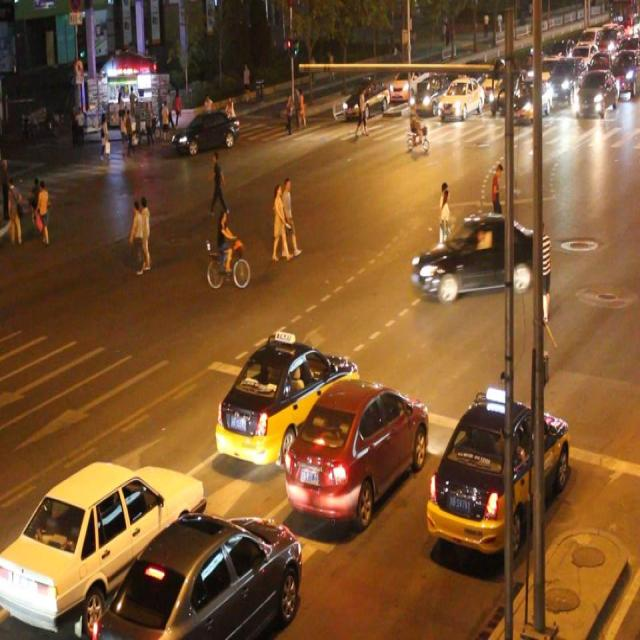car: (1, 452, 204, 630), (98, 506, 300, 640), (427, 396, 571, 556), (284, 378, 428, 524), (214, 338, 357, 467), (411, 215, 534, 298), (172, 108, 239, 153), (341, 77, 388, 120), (438, 76, 482, 120), (411, 73, 447, 117)
